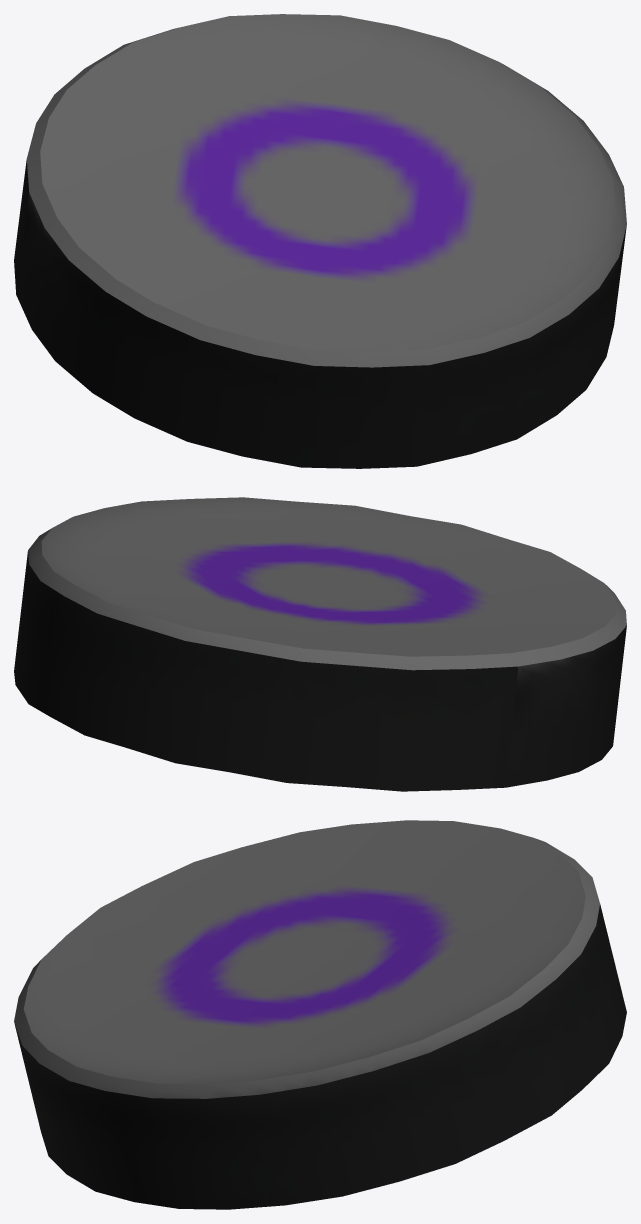
Rendered from RPico.obj.
3 renders of one model, top to bottom at view 1: azimuth 30°, elevation 25°; view 2: azimuth 150°, elevation 25°; view 3: azimuth 270°, elevation 25°, orthographic.
Visible parts, largest first — view 1: RPico; view 2: RPico; view 3: RPico.
Part boxes in pixels (box(x1,y1,x2,y2)): RPico: box(14, 14, 626, 468); RPico: box(14, 497, 626, 791); RPico: box(14, 820, 626, 1209).
Bounding box in the file's own units: 0.00866 × 0.00366 × 0.00884.
Materials: 1 (1 with a texture image).
